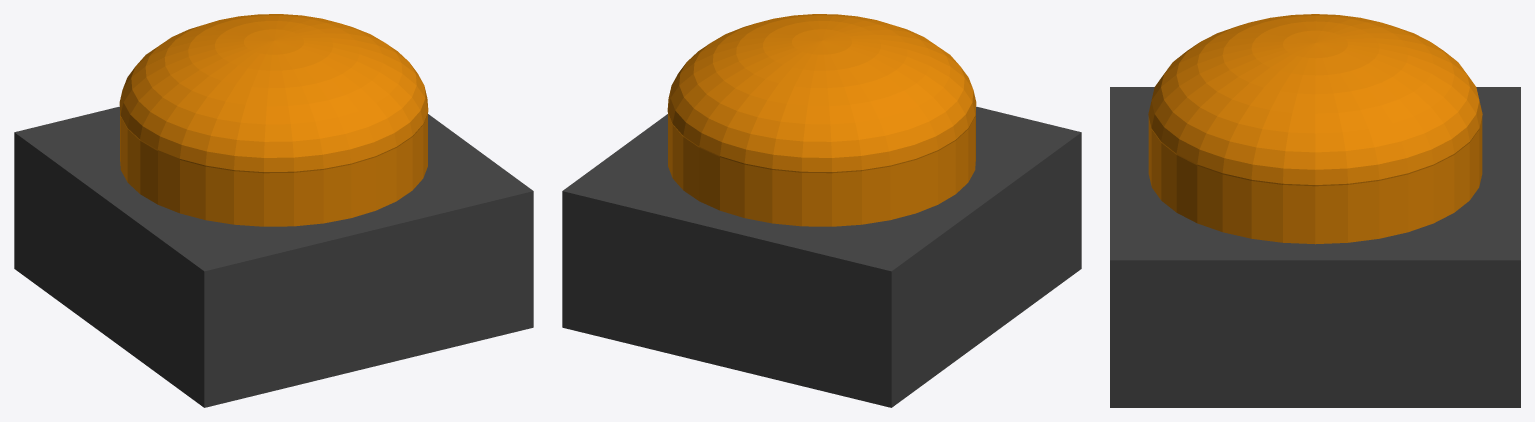
Rendered from lamp_orrange.glb.
3 views of the same model, side by side, from view 1: azimuth 30°, elevation 25°; view 2: azimuth 150°, elevation 25°; view 3: azimuth 270°, elevation 25° (orthographic). The views are drawn at different scales.
Visible parts, largest first — view 1: Cube, Sphere, Cylinder; view 2: Cube, Sphere, Cylinder; view 3: Cube, Sphere, Cylinder.
Part boxes in pixels (left/top/right/bottom): Cube: left=14, top=106, right=533, bottom=407; Sphere: left=119, top=14, right=428, bottom=173; Cylinder: left=120, top=110, right=427, bottom=226; Cube: left=562, top=106, right=1081, bottom=407; Sphere: left=667, top=14, right=976, bottom=173; Cylinder: left=668, top=110, right=975, bottom=226; Cube: left=1110, top=87, right=1520, bottom=407; Sphere: left=1148, top=14, right=1482, bottom=186; Cylinder: left=1148, top=117, right=1482, bottom=244.
Size of the model in its own units: 2 by 1.49 by 2.
